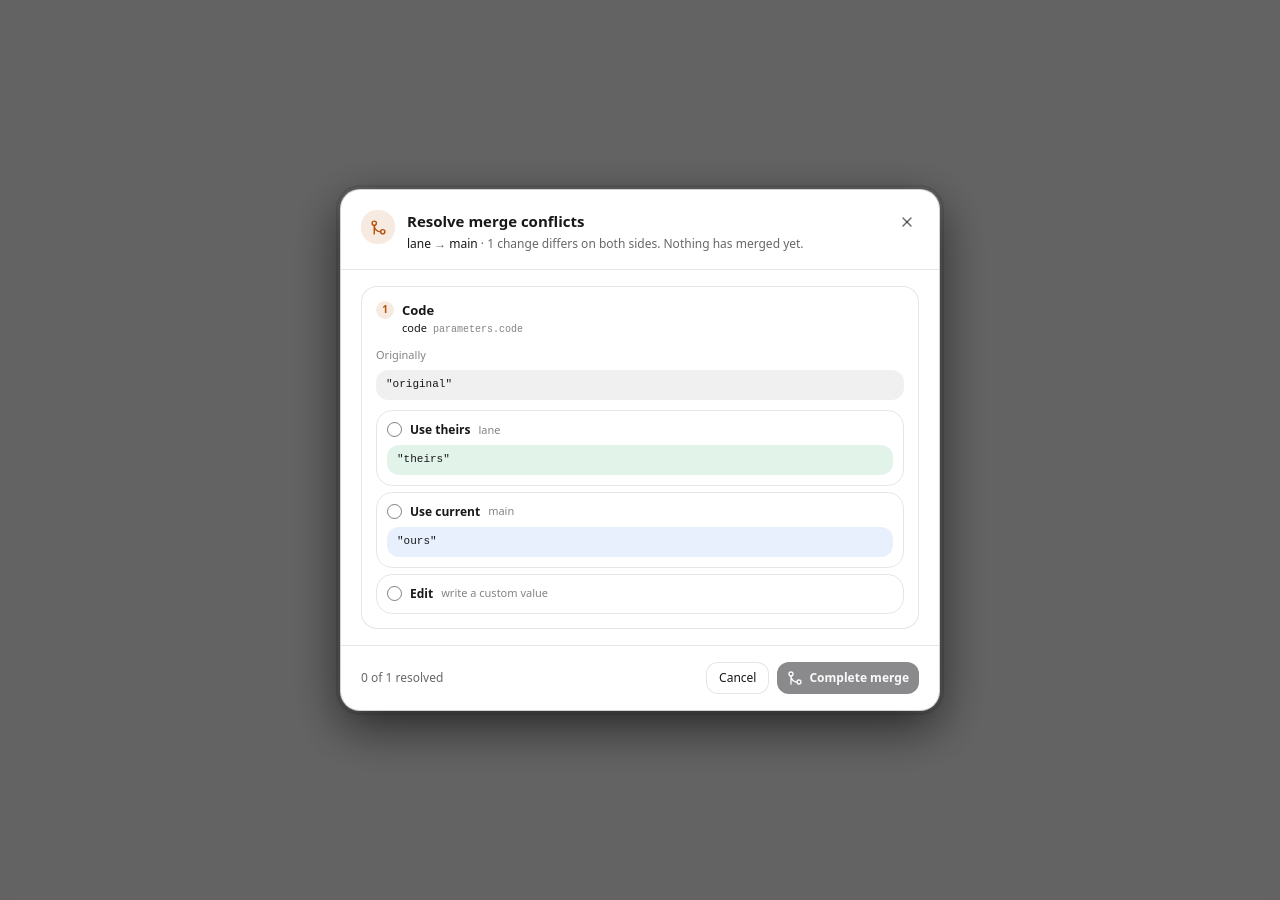
Test: ConflictResolver › attributes a rejection that names a node to that node's card
Click the radio button labelled "Use theirs lane \"theirs\"" at (640, 448), box [376,410,904,486]
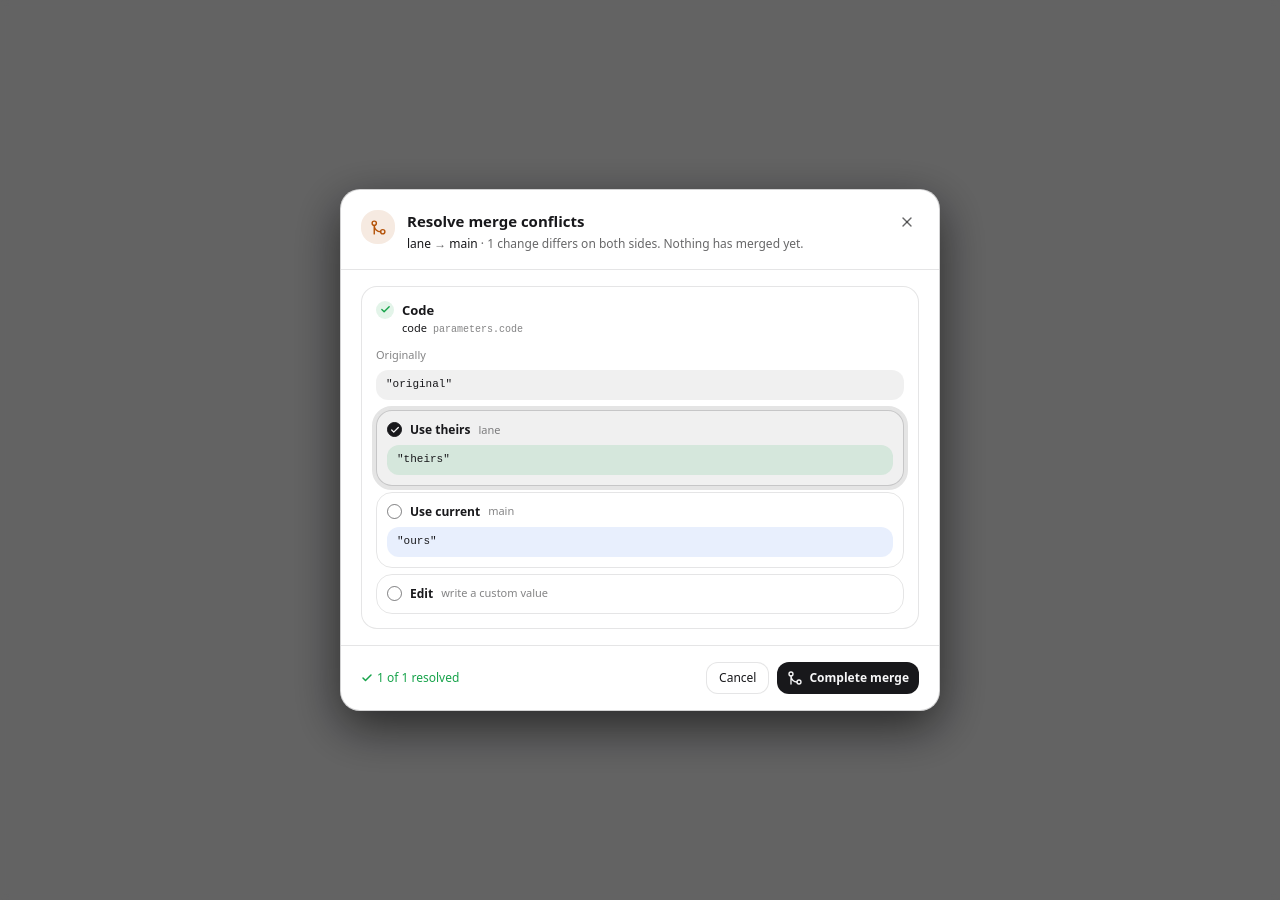
Click the button "Complete merge" at (848, 678), box [778,662,919,694]
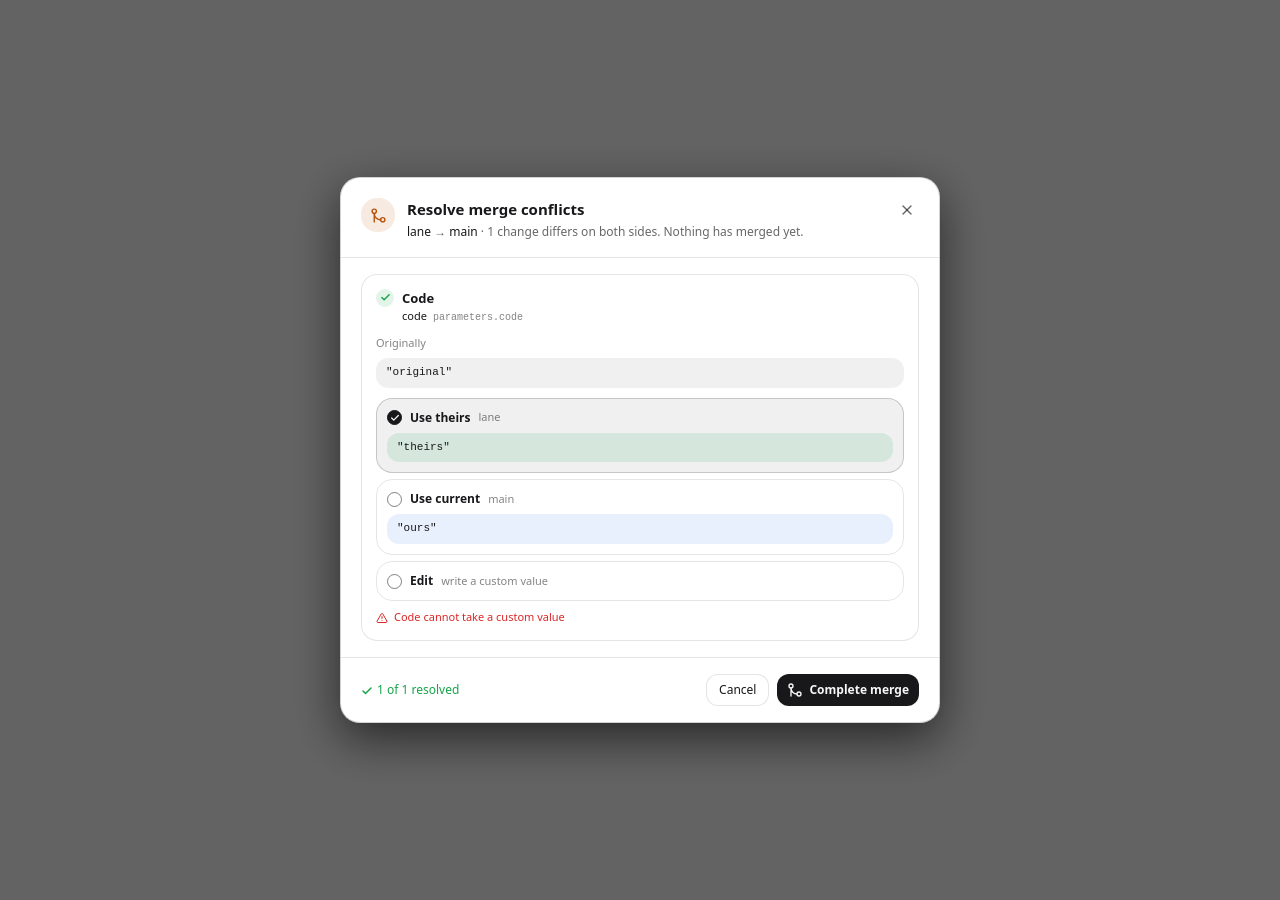
Check: the text "Code cannot take a custom value" is shown, box [376,609,565,624]
